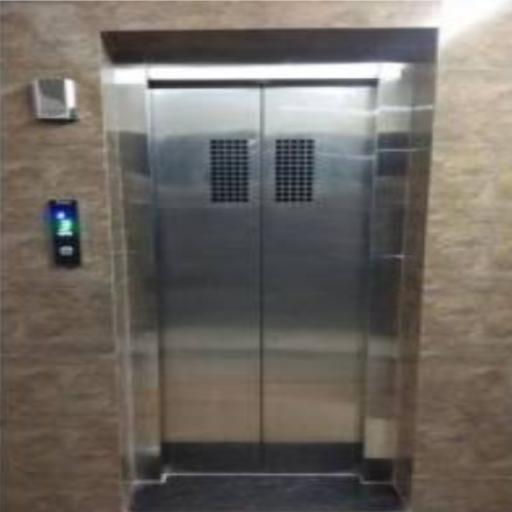closet: (51, 28, 439, 512)
